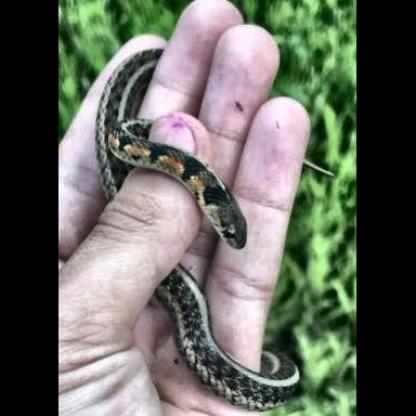Snake: (95, 40, 252, 252)
